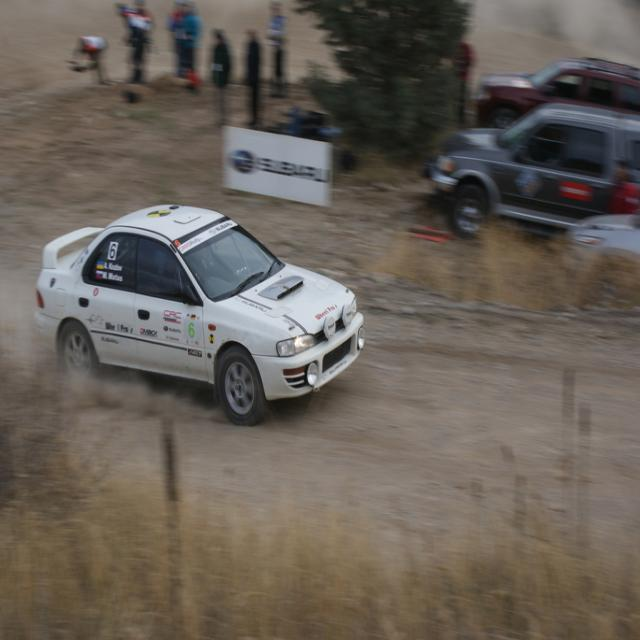car: (36, 206, 356, 418)
